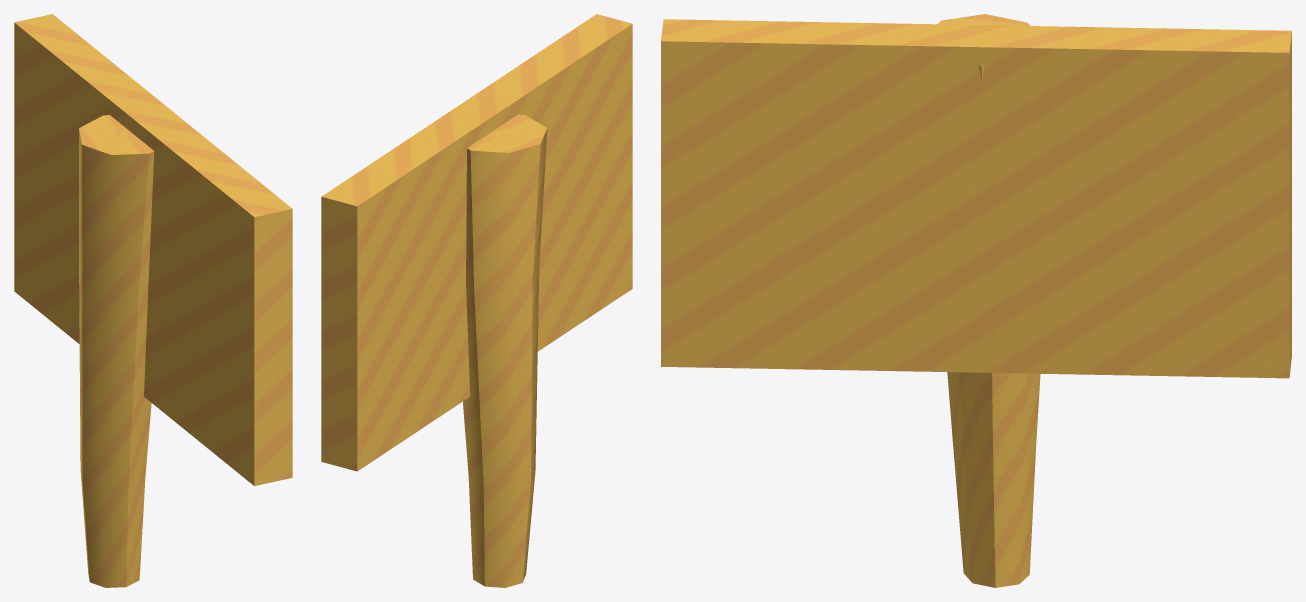
Rendered from pai.FBX.
3 renders of one model, left to right at view 1: azimuth 30°, elevation 25°; view 2: azimuth 150°, elevation 25°; view 3: azimuth 270°, elevation 25°, orthographic. The views are drawn at different scales.
Visible parts, largest first — view 1: pai; view 2: pai; view 3: pai.
Part boxes in pixels (x1,y1,x2,y2): pai: (14,14,292,587); pai: (321,14,632,587); pai: (661,14,1291,587).
Size of the model in its own units: 35.12 by 160 by 164.
